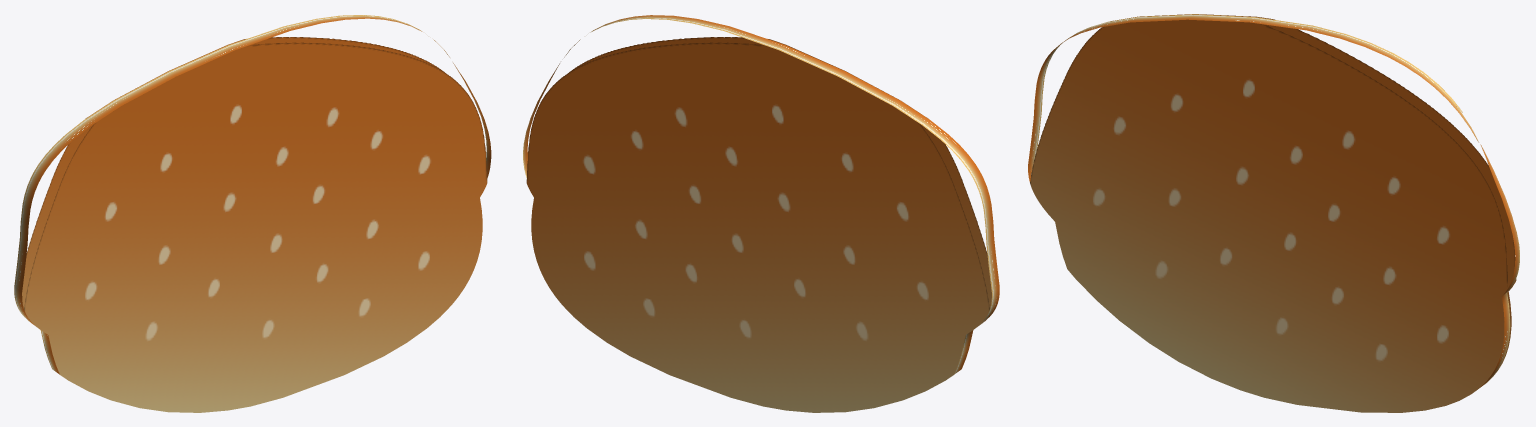
The model's file is bun.fbx.
3 renders of one model, left to right at view 1: azimuth 30°, elevation 25°; view 2: azimuth 150°, elevation 25°; view 3: azimuth 330°, elevation 25°, orthographic. The views are drawn at different scales.
Parts seen in each view (by area): view 1: bun; view 2: bun; view 3: bun.
Boxes of the visible parts, <box> form: bun: <box>14,15,491,412</box>; bun: <box>523,15,999,412</box>; bun: <box>1028,14,1519,412</box>.
Size of the model in its own units: 12.07 by 8.95 by 0.3528.
Materials: 1 (1 with a texture image).
